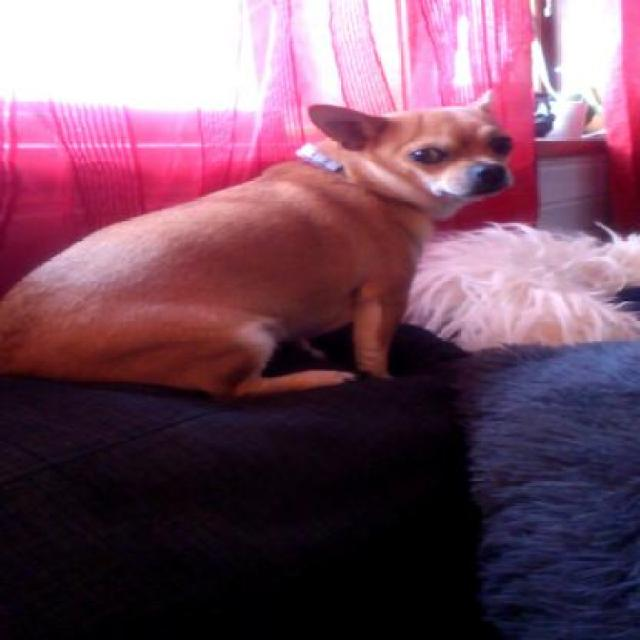Dog: (4, 85, 518, 403)
